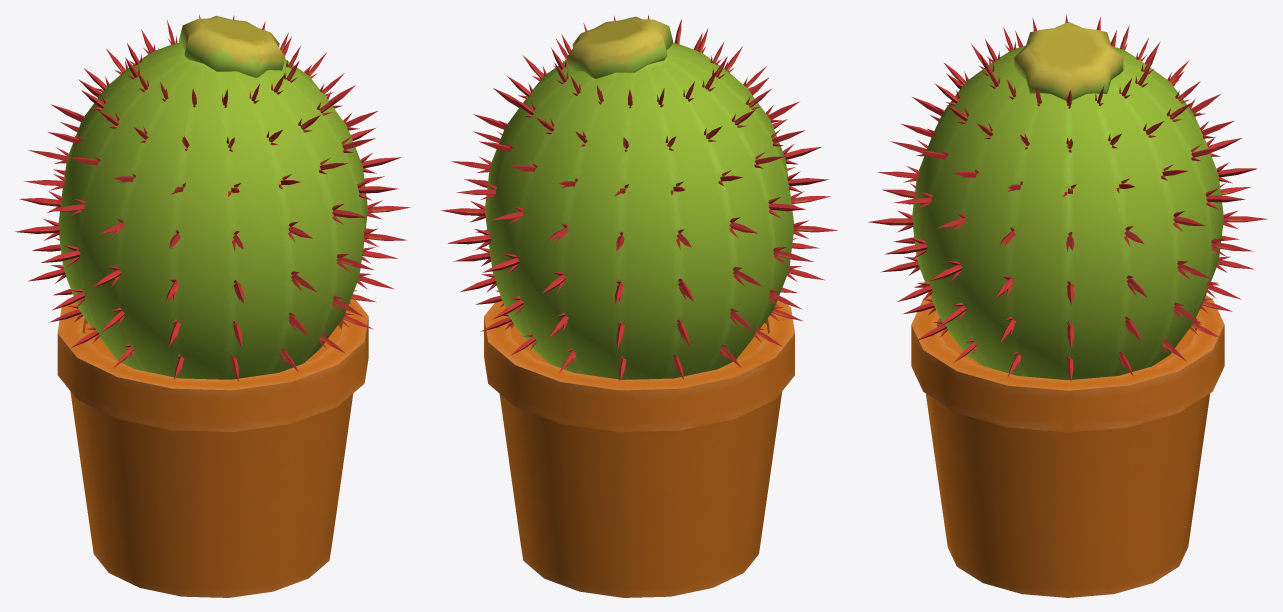
The model's file is cactus.obj.
3 renders of one model, left to right at view 1: azimuth 30°, elevation 25°; view 2: azimuth 150°, elevation 25°; view 3: azimuth 270°, elevation 25°, orthographic.
Visible parts, largest first — view 1: base_Cylinder; view 2: base_Cylinder; view 3: base_Cylinder.
Boxes of the visible parts, <box> form: base_Cylinder: <box>15,14,410,597</box>; base_Cylinder: <box>440,14,837,597</box>; base_Cylinder: <box>868,14,1267,597</box>.
Bounding box in the file's own units: 0.684 × 0.9779 × 0.684.
